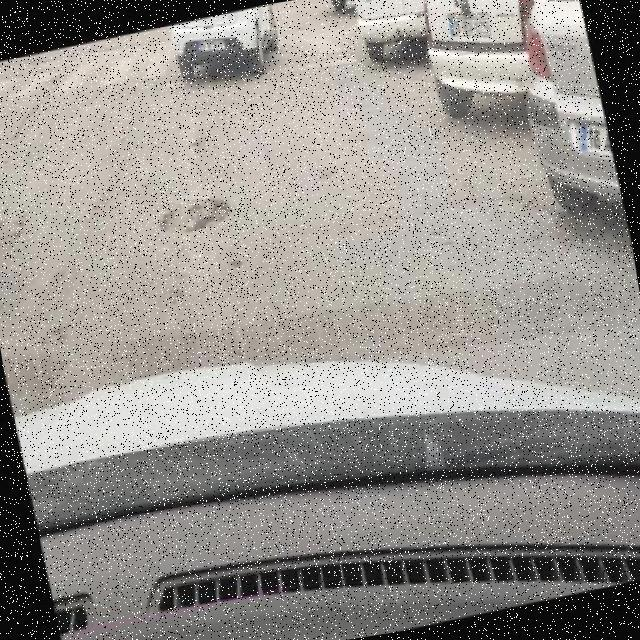Pothole: (158, 200, 231, 233)
